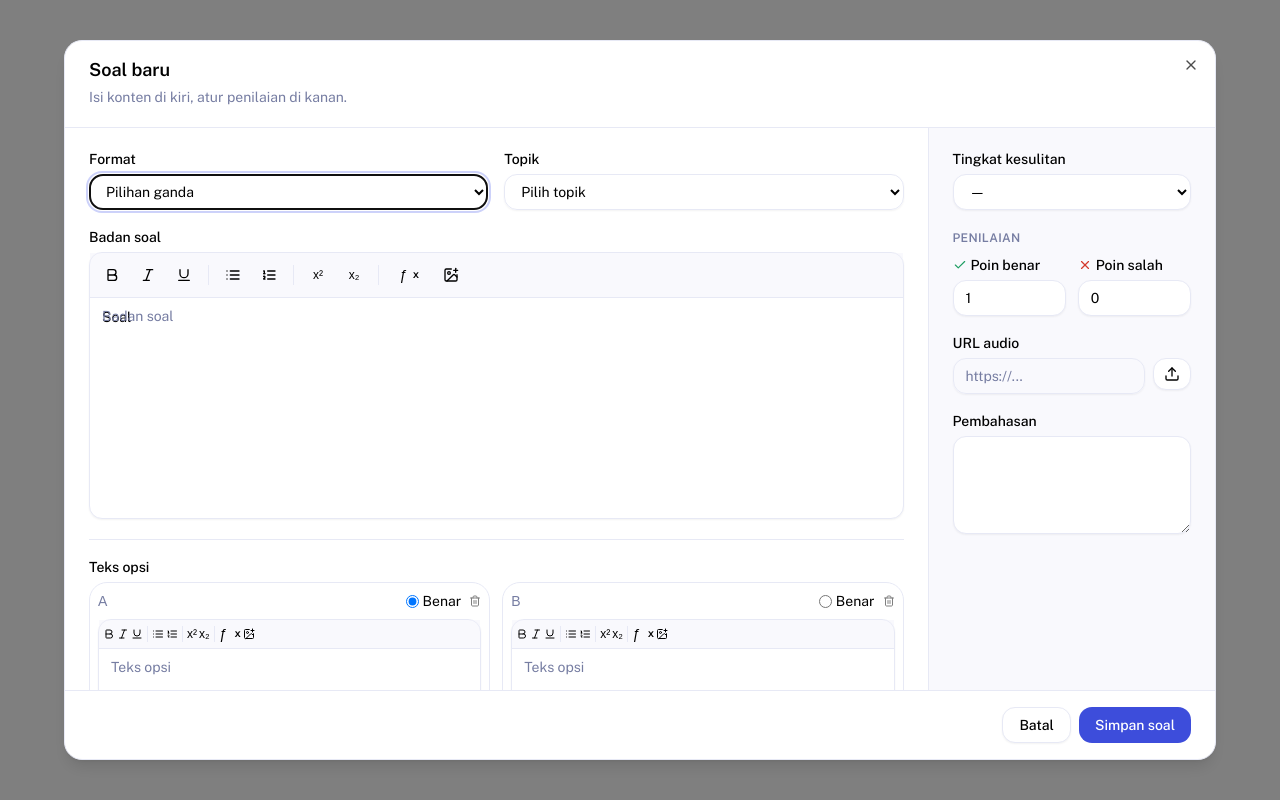
Test case: QuestionEditor › multi_answer validation: 0 correct blocks submit
The image size is (1280, 800).
Clear the field named "badan soal". click: (117, 317)
box: [102,309,131,325]
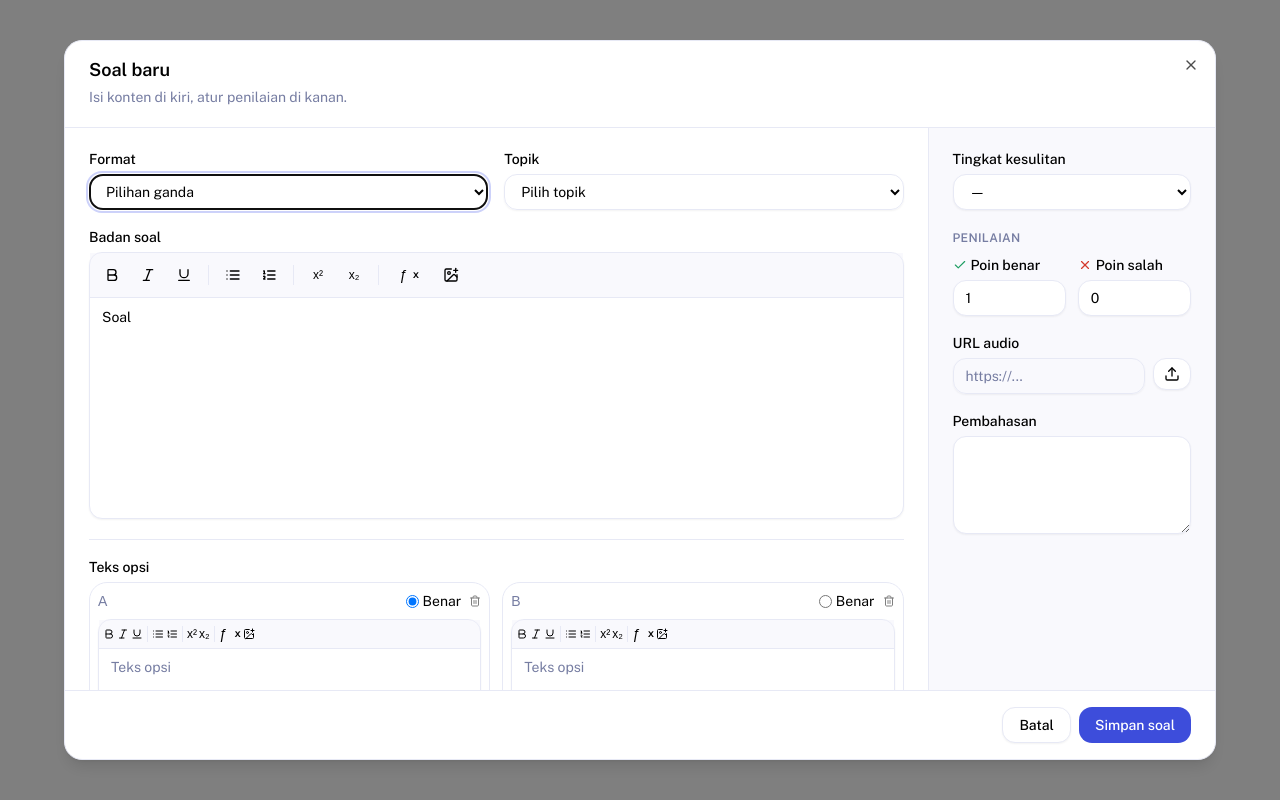
Select "Aljabar" in the dropdown labelled "Topik". click: (704, 192)
box: [504,174,904,210]
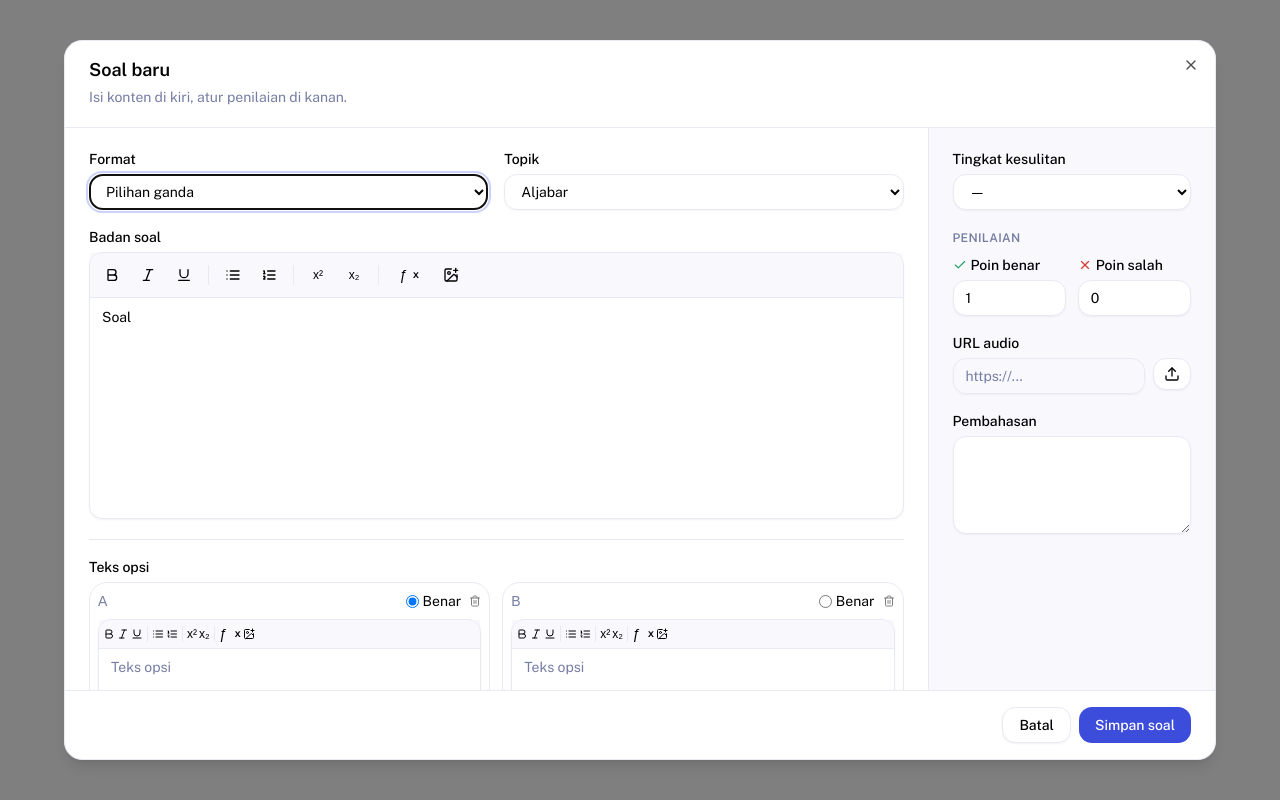
Select "Pilihan ganda kompleks" in the dropdown labelled "Format". click: (289, 192)
box: [89,174,488,210]
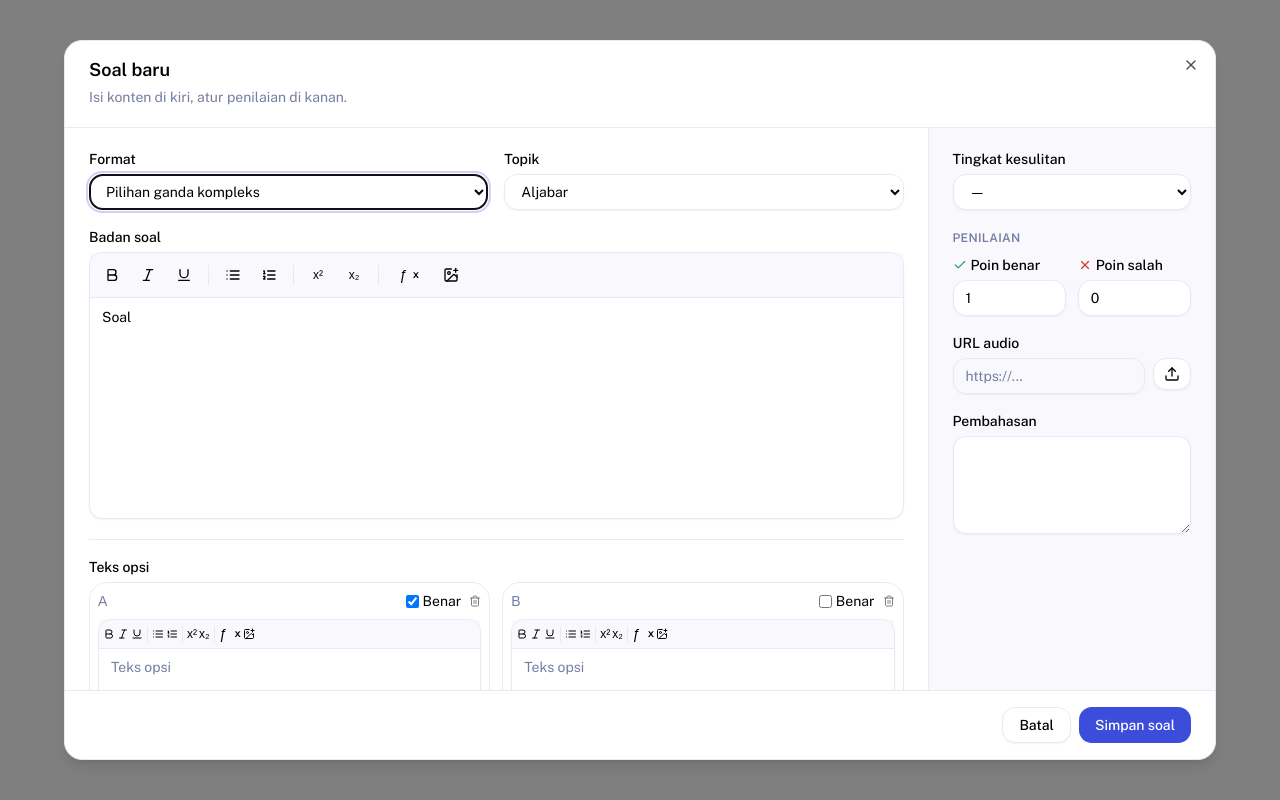
Click the 1st checkbox labelled "Benar". click: (412, 601)
box: [406,594,419,608]
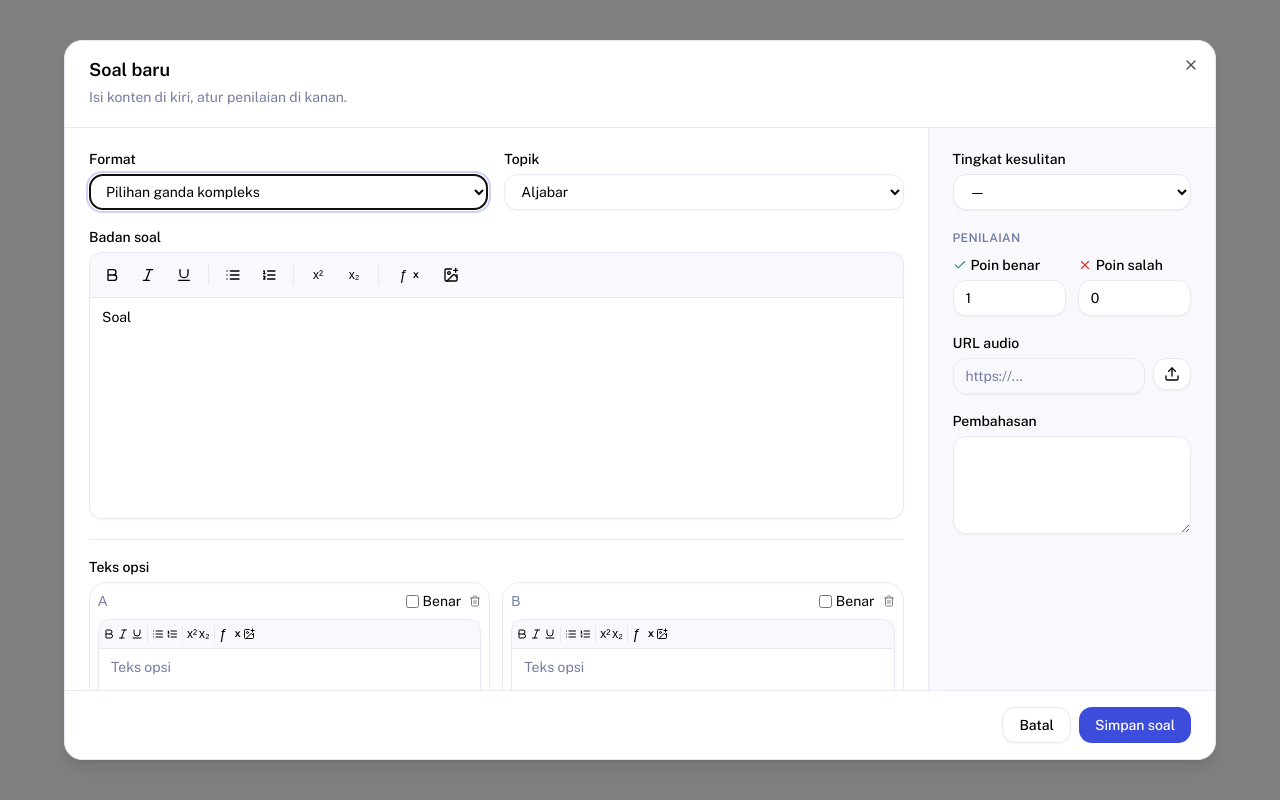
Click the button "Simpan soal". click: (1135, 725)
box: [1079,707,1191,743]
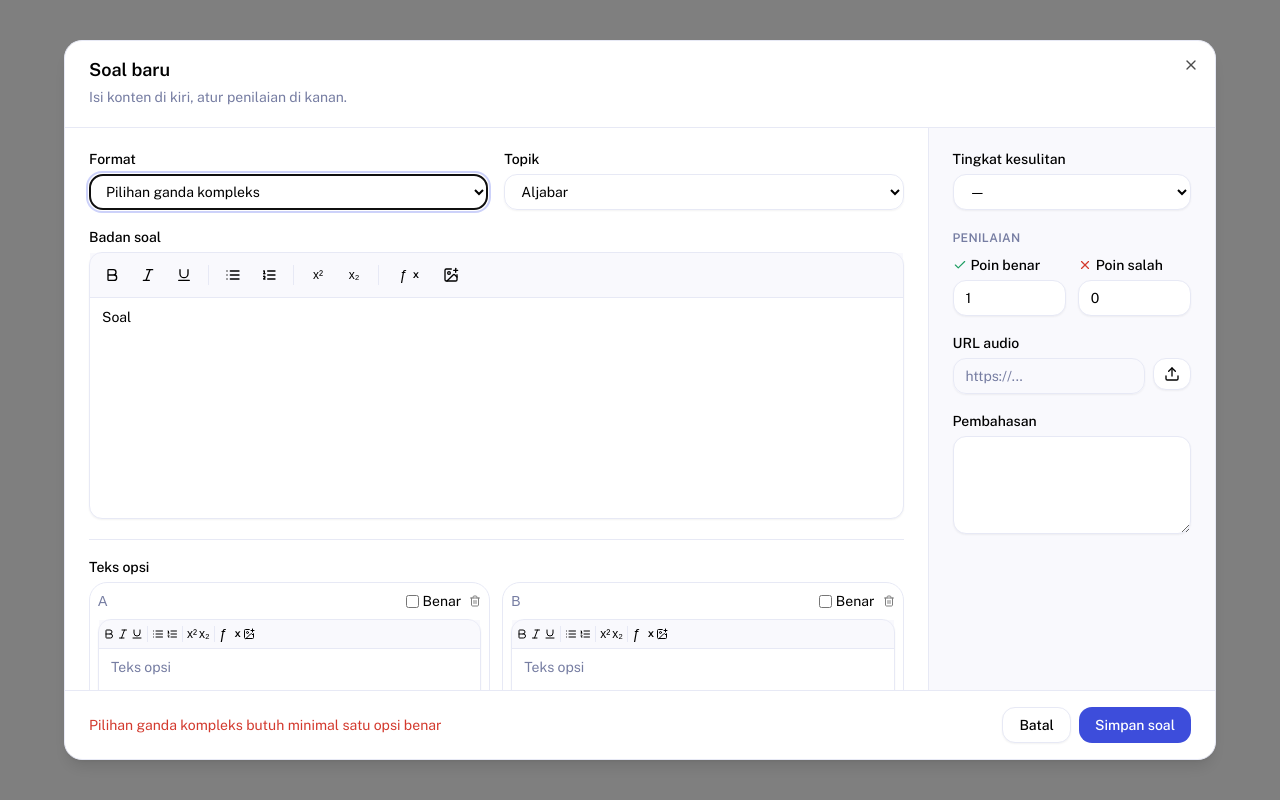
Expected: the text "Pilihan ganda kompleks butuh minimal satu opsi benar" is shown, [89,715,441,735]
